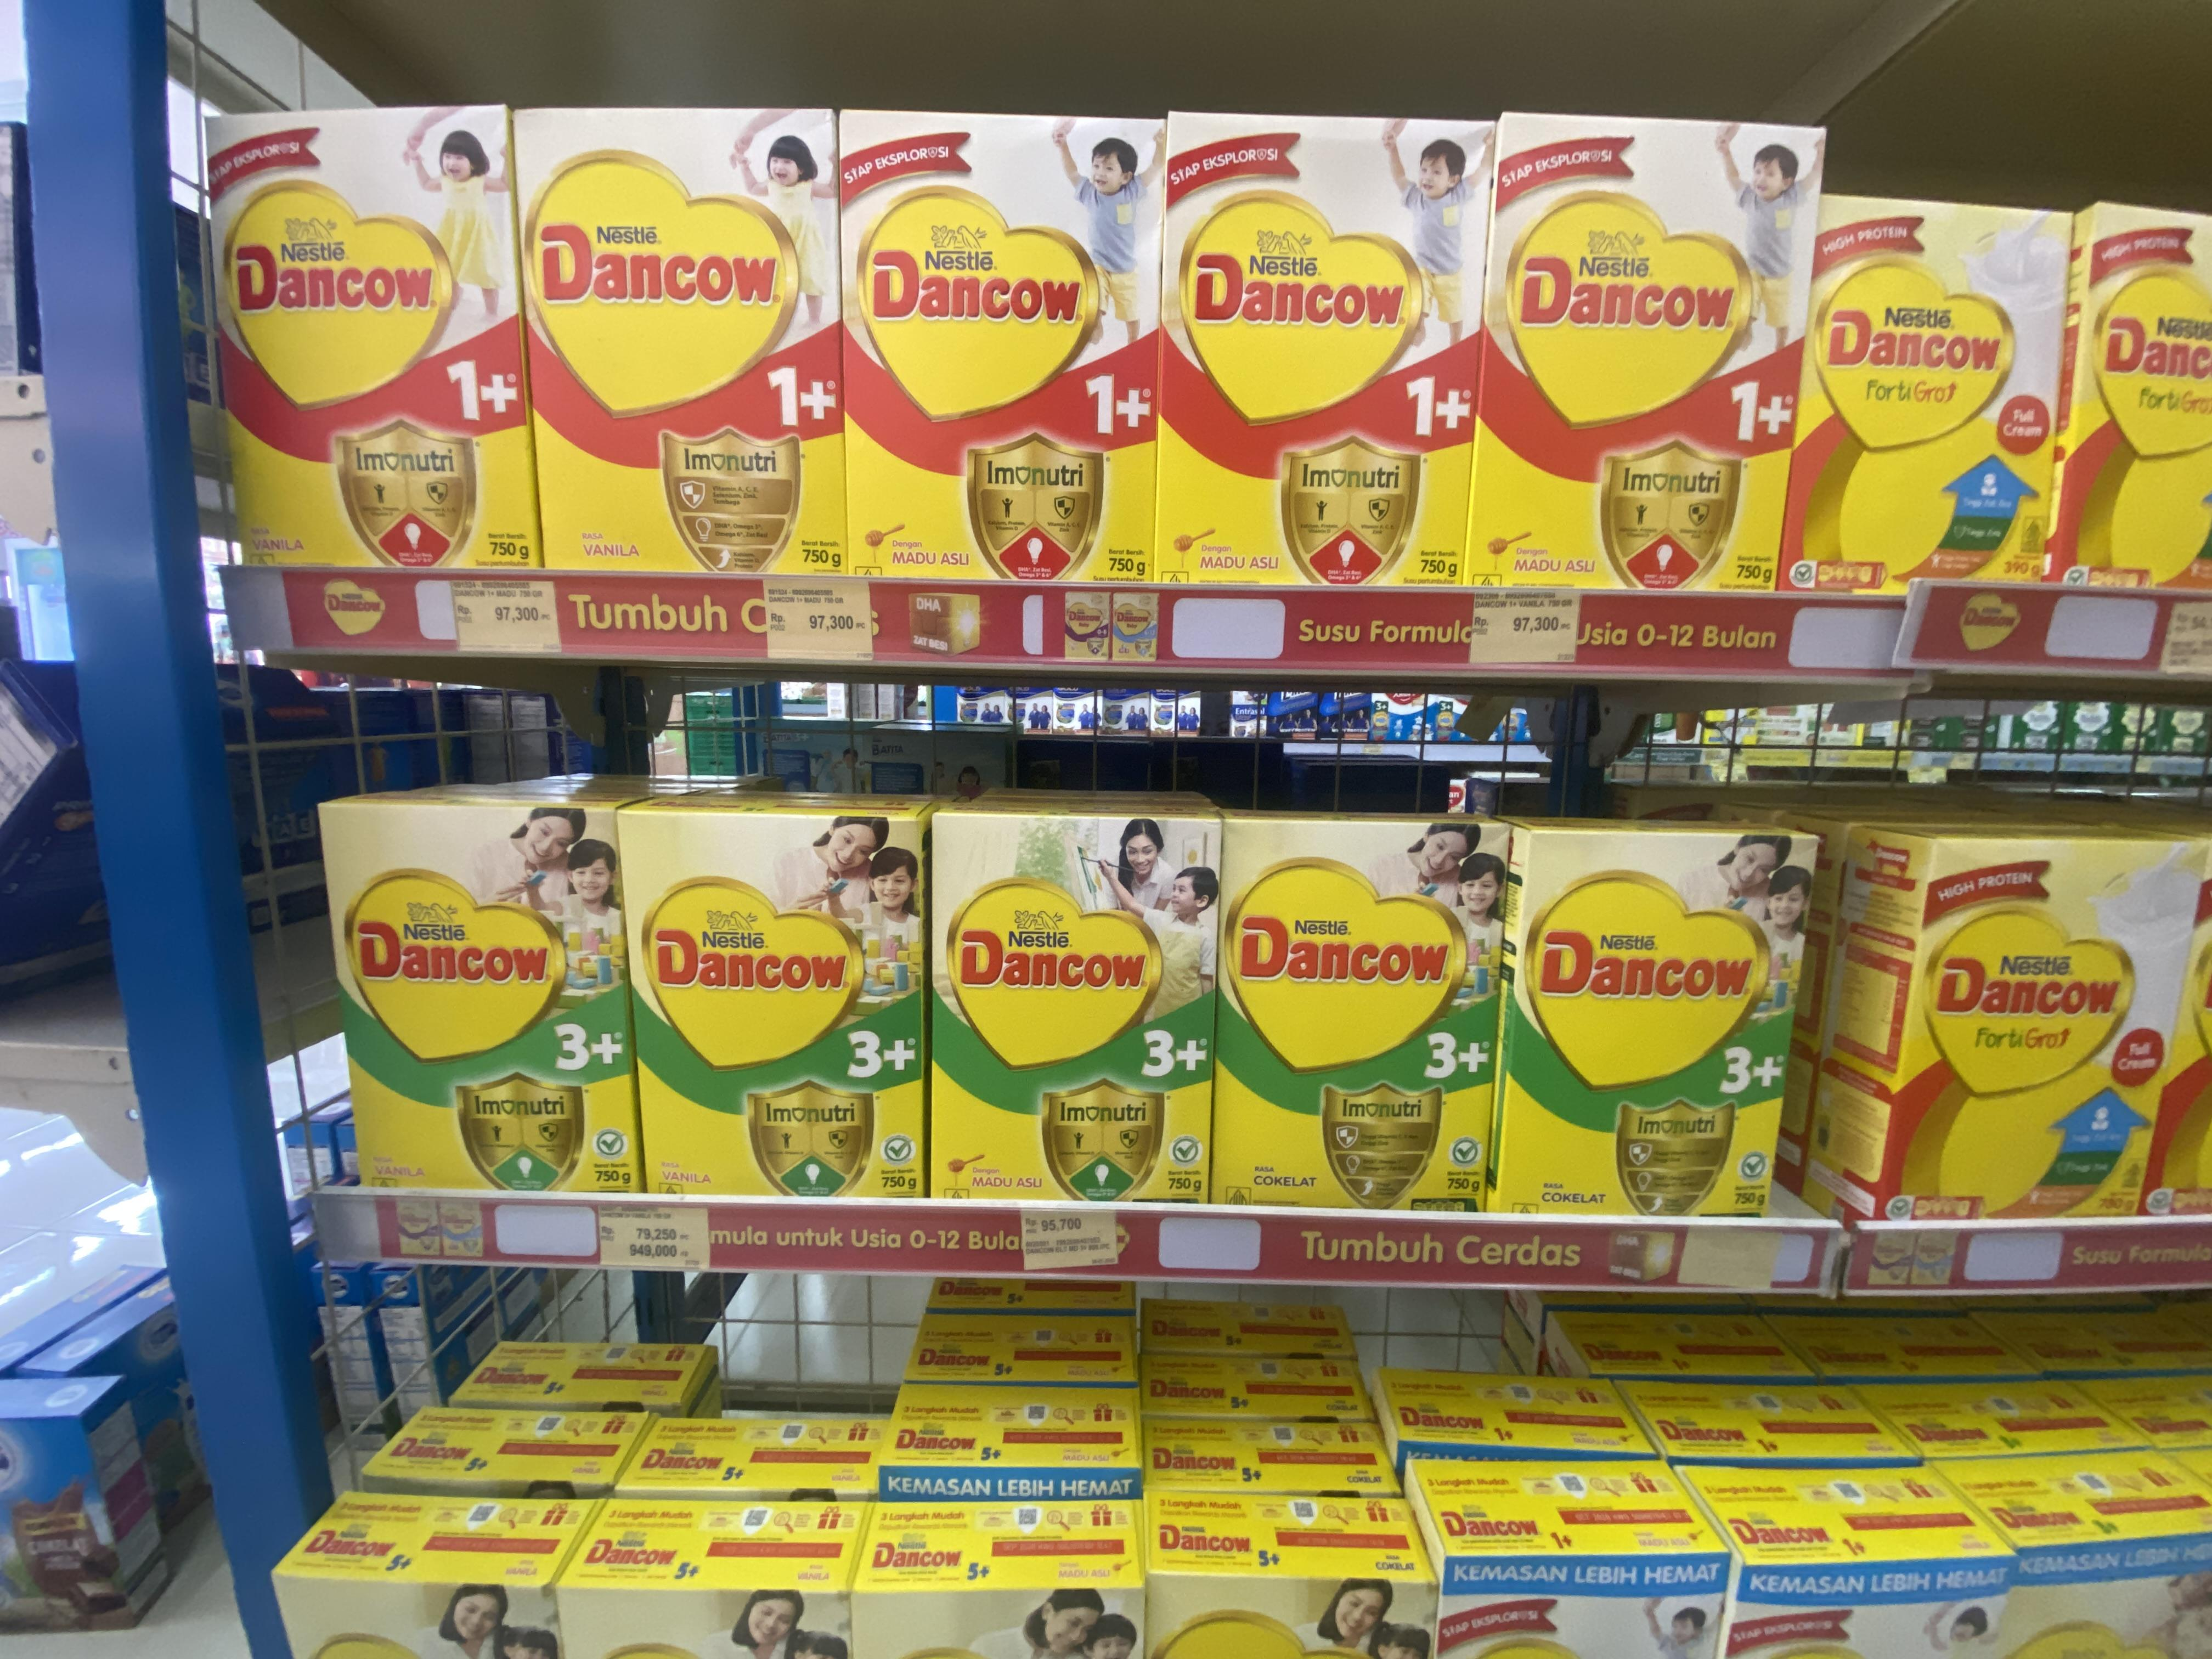DANCOW 1+ Madu Advn ExcNutr 12x800g ID_REDESIGN3: (1472, 112, 1827, 589), (1151, 115, 1493, 587), (834, 110, 1165, 584)
DANCOW 1+ Van Advn ExcNutr 12x800g N1 ID_REDESIGN3: (209, 105, 542, 573), (521, 101, 846, 577)
DANCOW 3+ Madu Advn ExcNutr 12x800g ID_REDESIGN3: (928, 814, 1217, 1206)
DANCOW 3+ Van Advn ExcNutr 12x800g ID_REDESIGN3: (315, 791, 641, 1204), (629, 809, 927, 1202)
